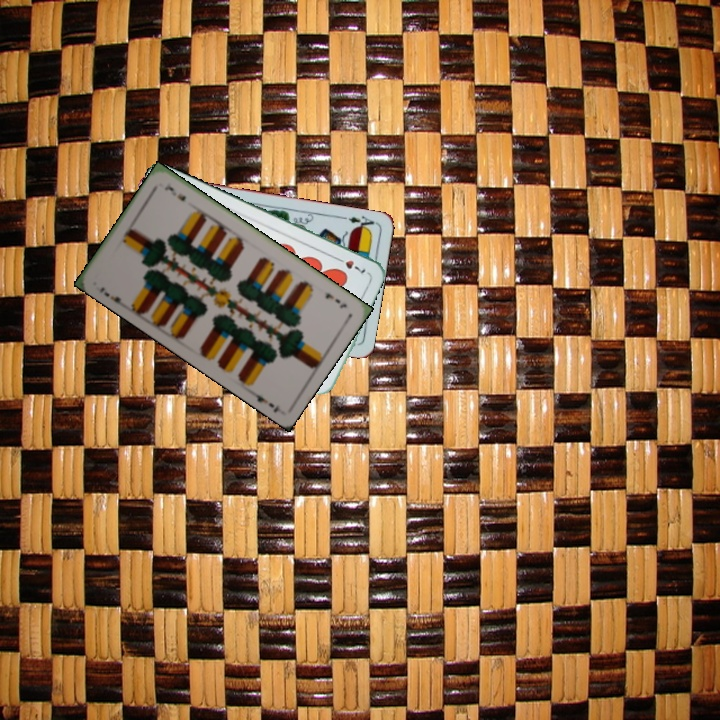E7: (96, 283, 127, 309), (321, 289, 350, 311)
EA: (344, 212, 378, 233)
H7: (331, 253, 368, 276)
